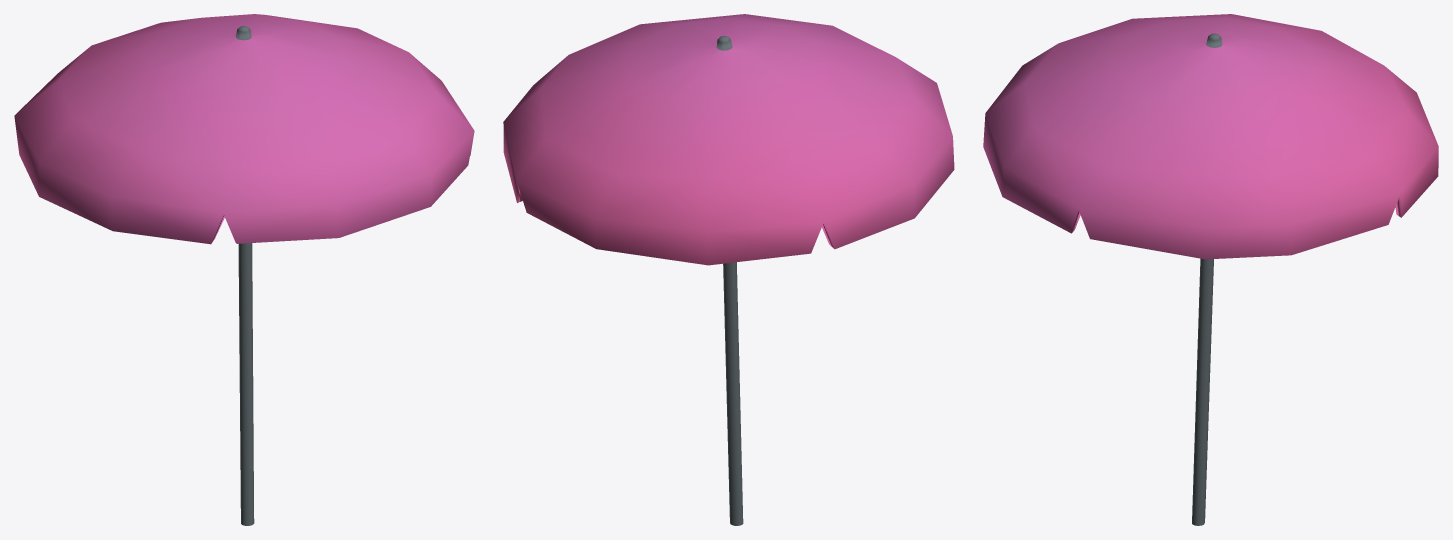
Rendered from Umbrella_Pink.fbx.
3 renders of one model, left to right at view 1: azimuth 30°, elevation 25°; view 2: azimuth 150°, elevation 25°; view 3: azimuth 270°, elevation 25°, orthographic.
Parts seen in each view (by area): view 1: Umbrella_Pink; view 2: Umbrella_Pink; view 3: Umbrella_Pink.
Boxes of the visible parts, x1=… form: Umbrella_Pink: x1=14, y1=14, x2=474, y2=525; Umbrella_Pink: x1=503, y1=14, x2=954, y2=525; Umbrella_Pink: x1=983, y1=14, x2=1438, y2=525.
Size of the model in its own units: 187 by 223 by 187.
Materials: 1 (1 with a texture image).
